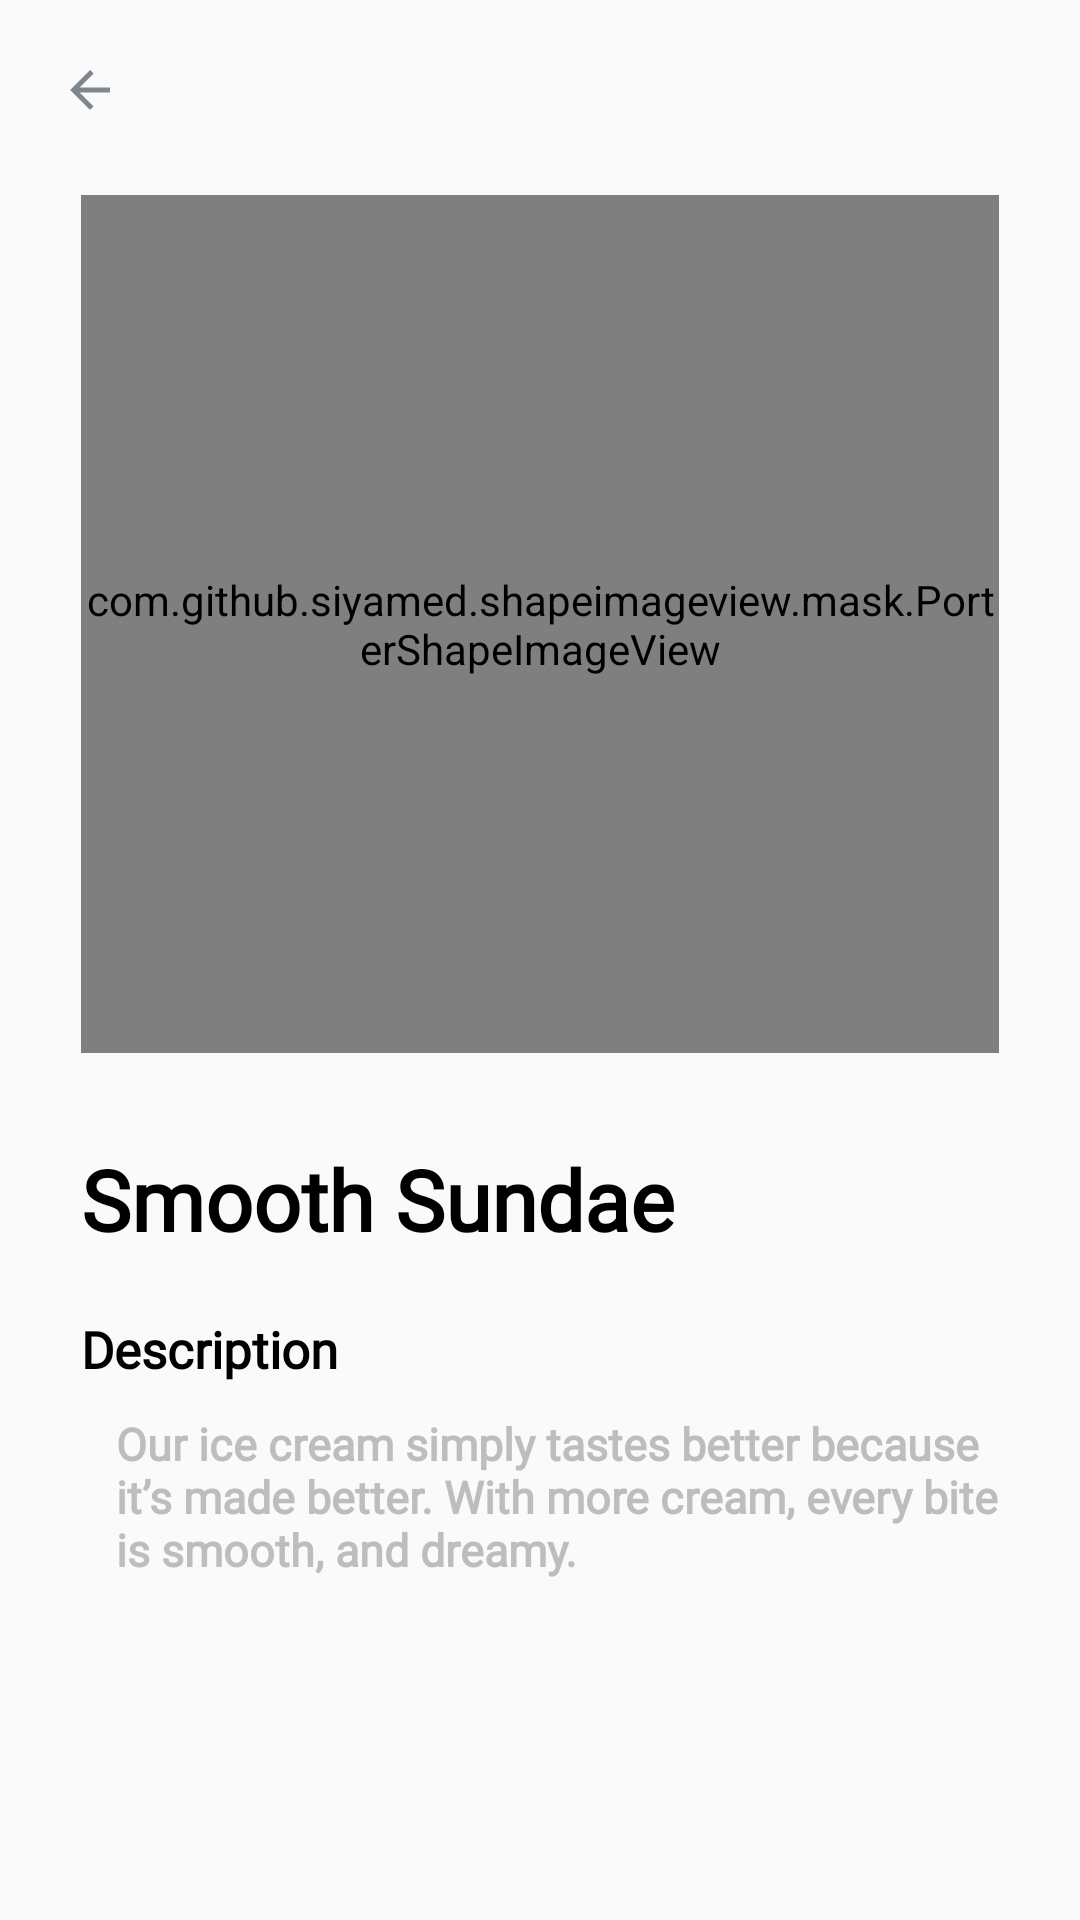

Named icons in this screenshot (1080×1920) and their bounding boxes, [x1=x1, y1=y1, x2=x2, y2=y2]:
arrow back: [x1=70, y1=70, x2=110, y2=110]
